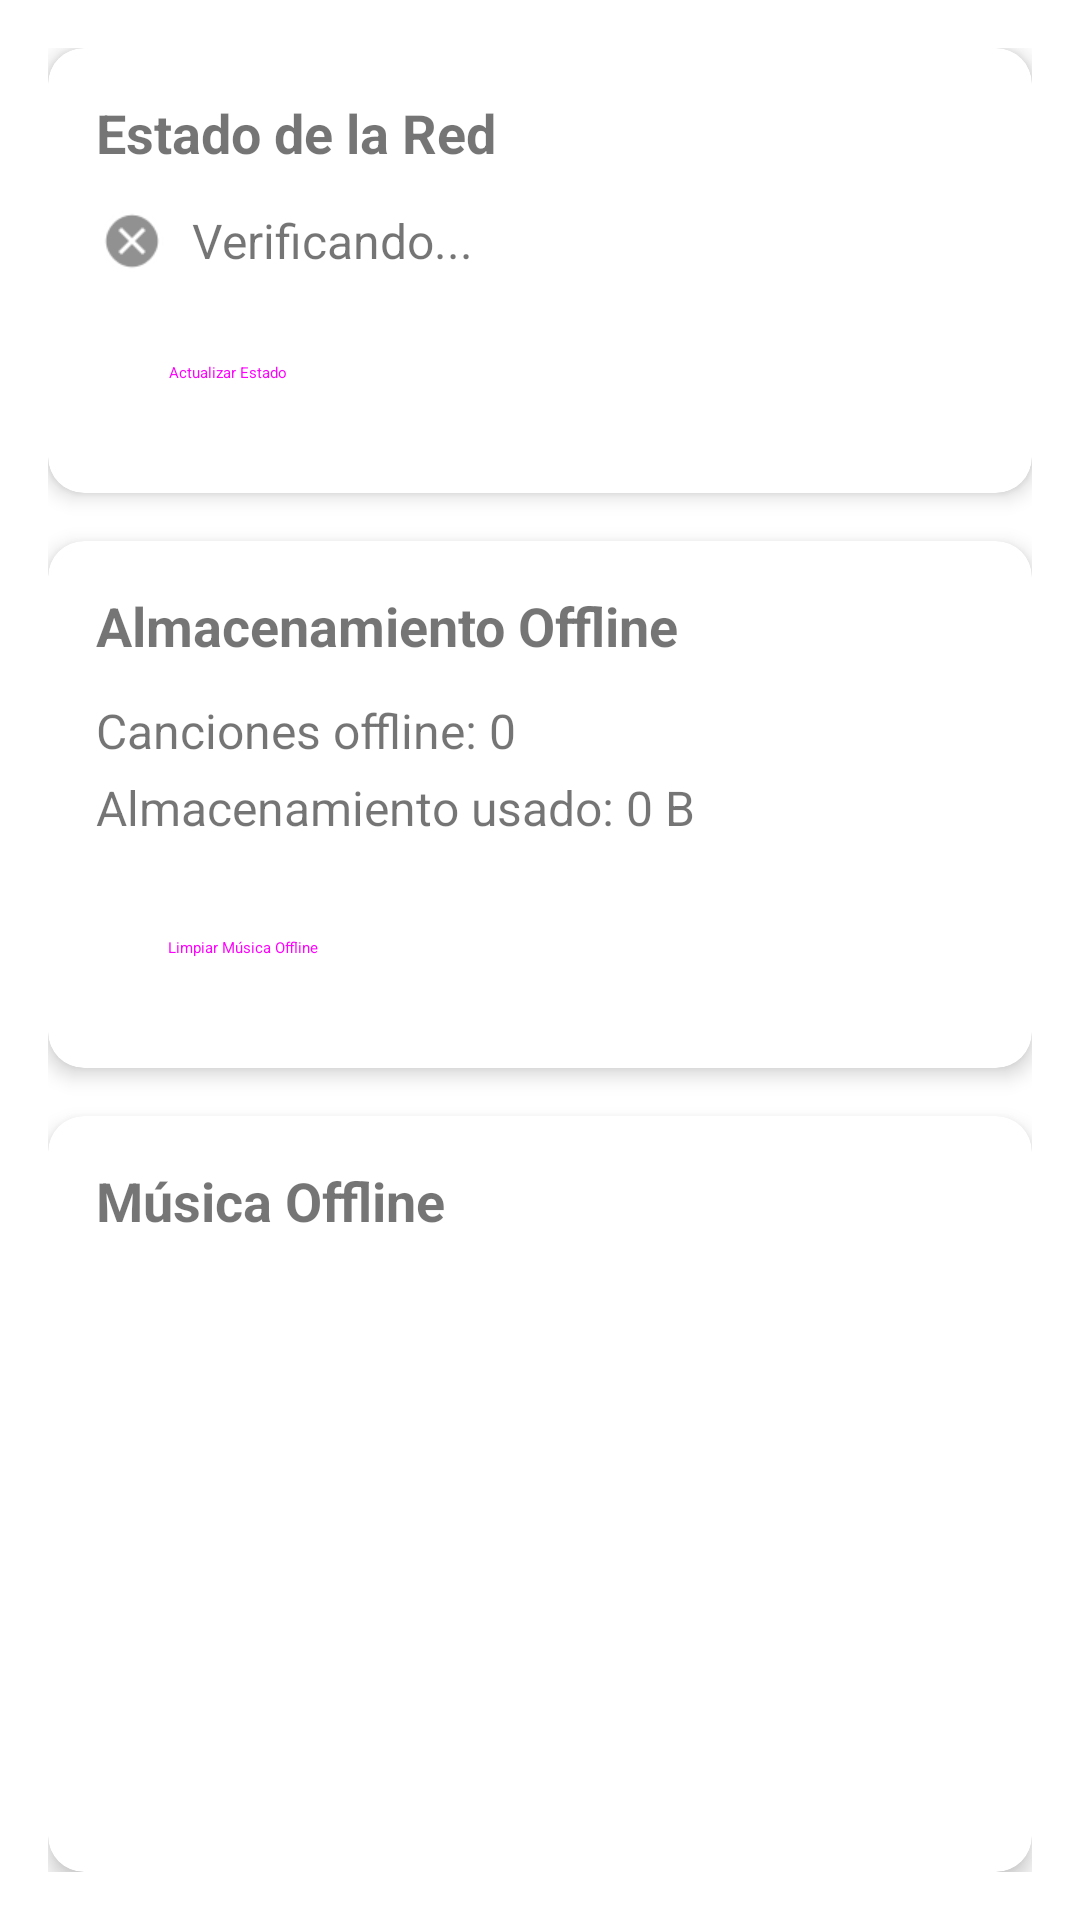

Screen size 1080px x 1920px. Icon name, then its box in pixels as (x1, y1, x2, y2):
presence offline: (106, 215, 158, 268)
